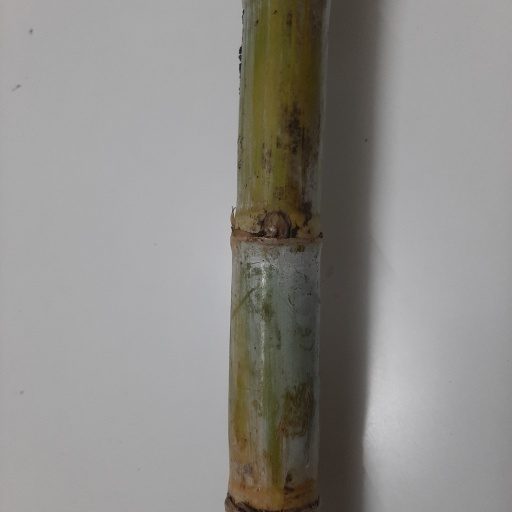Bud: (260, 210, 289, 238)
